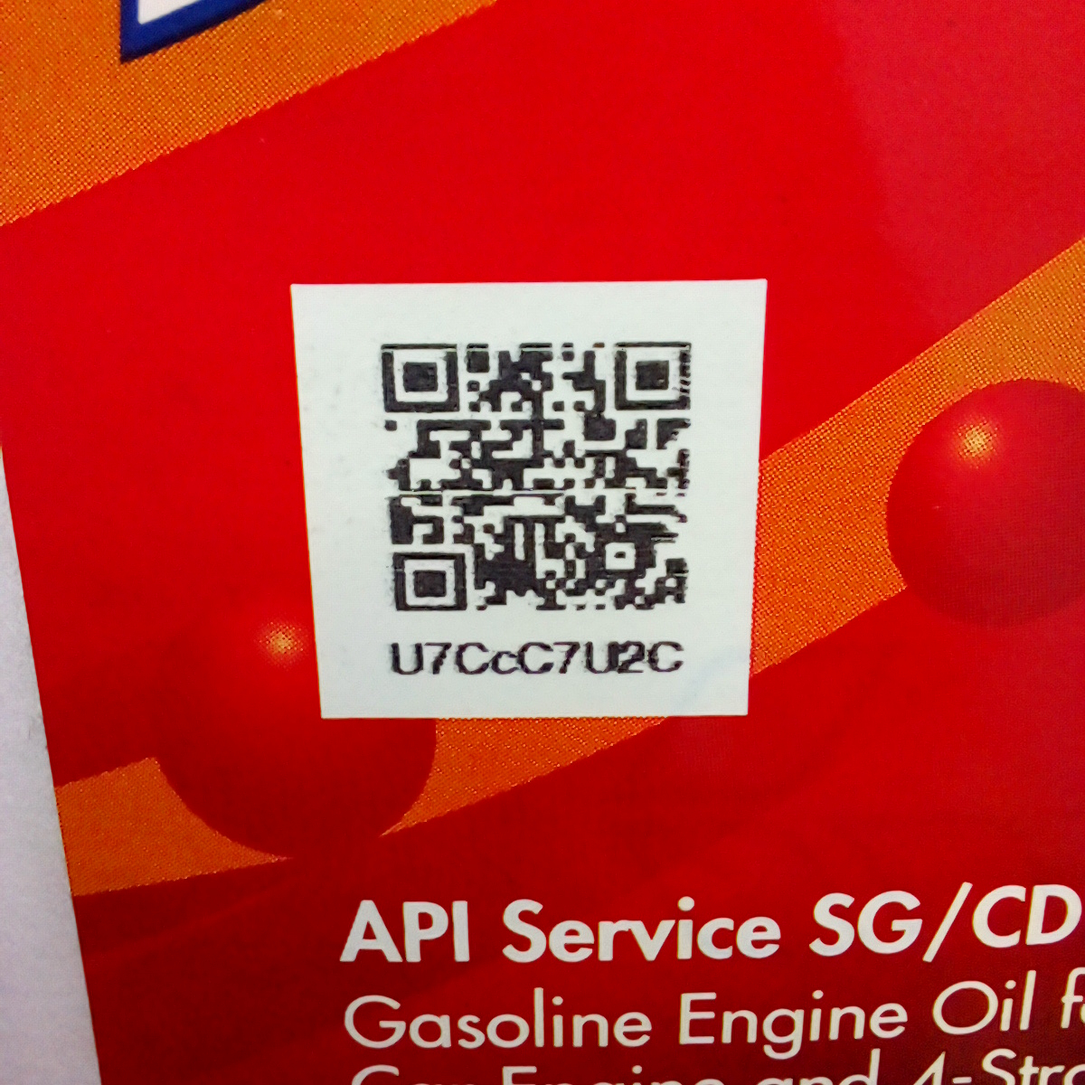QR-CODE: (367, 327, 710, 619)
